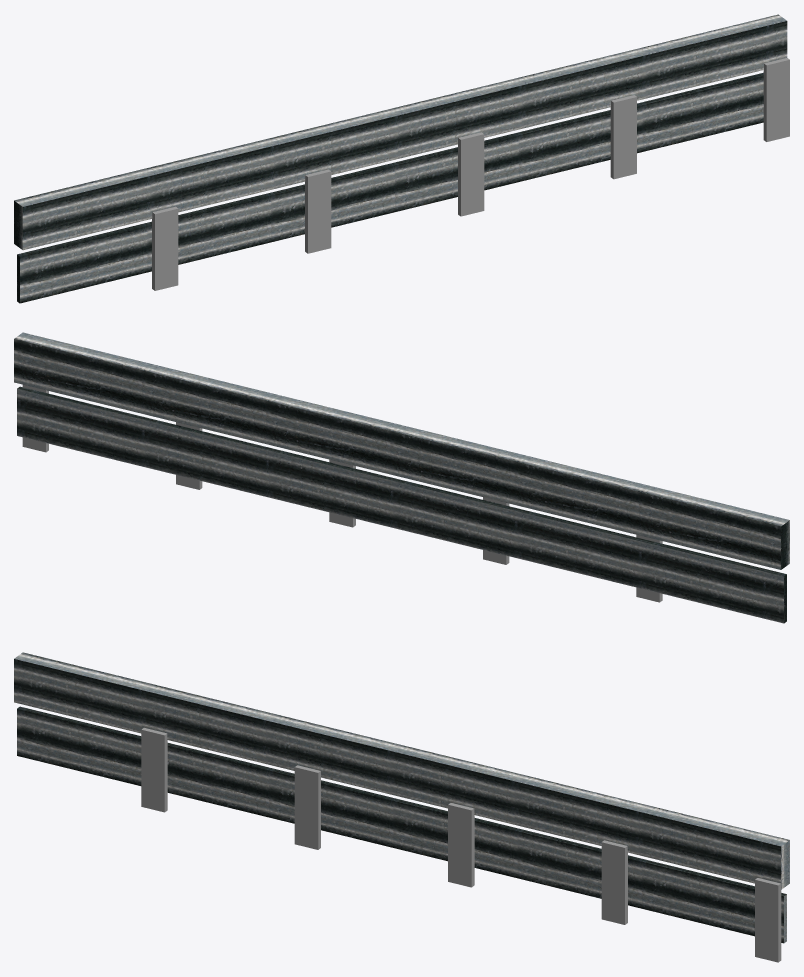
File: railingMetal.FBX
The picture shows the model from 3 angles, top to bottom: view 1: azimuth 30°, elevation 25°; view 2: azimuth 150°, elevation 25°; view 3: azimuth 330°, elevation 25°; orthographic projection.
Parts seen in each view (by area): view 1: RailingMetal; view 2: RailingMetal; view 3: RailingMetal.
Boxes of the visible parts, x1,y1,x2,y2 form: RailingMetal: [14, 14, 789, 303]; RailingMetal: [14, 332, 789, 623]; RailingMetal: [14, 652, 789, 962].
Size of the model in its own units: 203 by 28.88 by 5.52.
